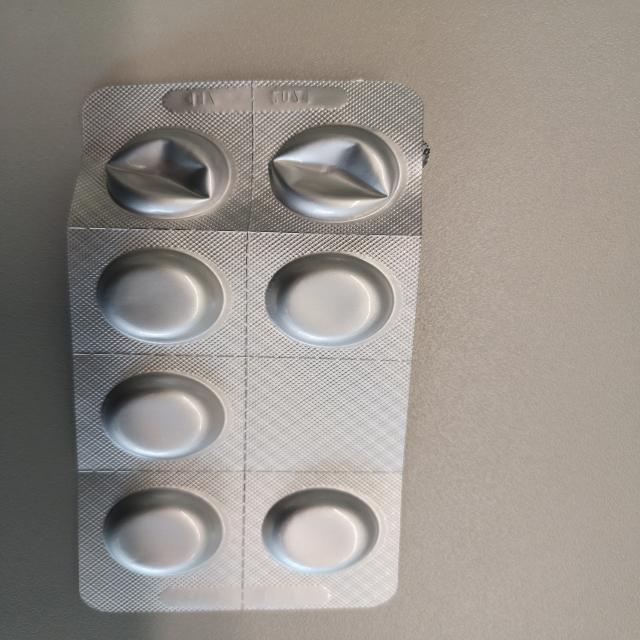Empty: (94, 122, 244, 224), (266, 117, 402, 227)
Pill: (257, 247, 400, 349), (86, 246, 229, 345), (94, 371, 226, 464), (93, 485, 225, 578), (257, 486, 383, 575)
